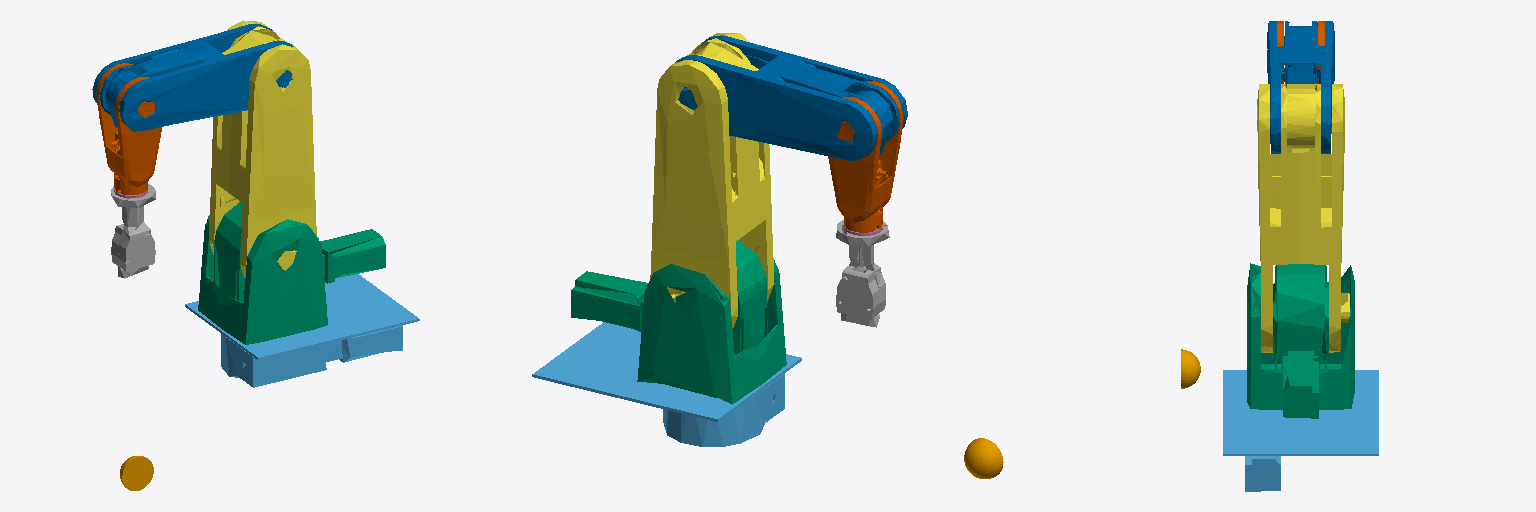
The robot description file, URDF, robot "rldp5":
<?xml version="1.0" ?>
<!-- =================================================================================== -->
<!-- |    This document was autogenerated by xacro from [local-path]/test3_ws/src/rldp5_description/urdf/rldp5.urdf.xacro | -->
<!-- |    EDITING THIS FILE BY HAND IS NOT RECOMMENDED                                 | -->
<!-- =================================================================================== -->
<robot name="rldp5">
    <!-- Links -->
    <link name="world" />
    <link name="base_link">
        <inertial>
            <origin rpy="0 0 0" xyz="0.04223218345086115 -0.01938787744257538 0.057495548139883904" />
            <mass value="2.4067491698035863" />
            <inertia ixx="0.008466" ixy="0.002277" ixz="-0.000705" iyy="0.018795" iyz="-0.000333" izz="0.024001" />
        </inertial>
        <visual>
            <origin rpy="0 0 0" xyz="0 0 0" />
            <geometry>
                <mesh filename="package://rldp5_description/mesh/base_link.stl" scale="0.001 0.001 0.001" />
            </geometry>
        </visual>
        <collision>
            <origin rpy="0 0 0" xyz="0 0 0" />
            <geometry>
                <mesh filename="package://rldp5_description/mesh/base_link.stl" scale="0.001 0.001 0.001" />
            </geometry>
        </collision>
    </link>
    <link name="link_1">
        <inertial>
            <origin rpy="0 0 0" xyz="0.02666189292548051 -4.87712308473133e-07 0.11114216106472456" />
            <mass value="2.489938203553284" />
            <inertia ixx="0.010589" ixy="3e-06" ixz="0.002056" iyy="0.021835" iyz="-0.0" izz="0.017706" />
        </inertial>
        <visual>
            <origin rpy="0 0 0" xyz="0.0 0.0 -0.1022" />
            <geometry>
                <mesh filename="package://rldp5_description/mesh/link_1.stl" scale="0.001 0.001 0.001" />
            </geometry>
        </visual>
        <collision>
            <origin rpy="0 0 0" xyz="0.0 0.0 -0.1022" />
            <geometry>
                <mesh filename="package://rldp5_description/mesh/link_1.stl" scale="0.001 0.001 0.001" />
            </geometry>
        </collision>
    </link>
    <link name="link_2">
        <inertial>
            <origin rpy="0 0 0" xyz="-0.0025797033685453323 0.08740384931769365 0.23089426213956546" />
            <mass value="1.7064644306239998" />
            <inertia ixx="0.027922" ixy="1.4e-05" ixz="0.000507" iyy="0.027117" iyz="-3.8e-05" izz="0.005495" />
        </inertial>
        <visual>
            <origin rpy="0 0 0" xyz="0.0 0.0875 -0.2472" />
            <geometry>
                <mesh filename="package://rldp5_description/mesh/link_2.stl" scale="0.001 0.001 0.001" />
            </geometry>
        </visual>
        <collision>
            <origin rpy="0 0 0" xyz="0.0 0.0875 -0.2472" />
            <geometry>
                <mesh filename="package://rldp5_description/mesh/link_2.stl" scale="0.001 0.001 0.001" />
            </geometry>
        </collision>
    </link>
    <link name="link_3">
        <inertial>
            <origin rpy="0 0 0" xyz="-0.17767994097579132 0.07055070946330594 -0.0021365928026594316" />
            <mass value="0.8476040154017905" />
            <inertia ixx="0.001758" ixy="-4e-06" ixz="-0.000161" iyy="0.008757" iyz="-3e-06" izz="0.008954" />
        </inertial>
        <visual>
            <origin rpy="0 0 0" xyz="0.0 0.0706 -0.5972" />
            <geometry>
                <mesh filename="package://rldp5_description/mesh/link_3.stl" scale="0.001 0.001 0.001" />
            </geometry>
        </visual>
        <collision>
            <origin rpy="0 0 0" xyz="0.0 0.0706 -0.5972" />
            <geometry>
                <mesh filename="package://rldp5_description/mesh/link_3.stl" scale="0.001 0.001 0.001" />
            </geometry>
        </collision>
    </link>
    <link name="link_4">
        <inertial>
            <origin rpy="0 0 0" xyz="-0.00026026868676498616 0.05460448637419659 -0.095038323418843" />
            <mass value="0.2564792674883184" />
            <inertia ixx="0.001174" ixy="-0.0" ixz="-1e-06" iyy="0.0011" iyz="0.0" izz="0.000275" />
        </inertial>
        <visual>
            <origin rpy="0 0 0" xyz="0.27 0.0546 -0.5972" />
            <geometry>
                <mesh filename="package://rldp5_description/mesh/link_4.stl" scale="0.001 0.001 0.001" />
            </geometry>
        </visual>
        <collision>
            <origin rpy="0 0 0" xyz="0.27 0.0546 -0.5972" />
            <geometry>
                <mesh filename="package://rldp5_description/mesh/link_4.stl" scale="0.001 0.001 0.001" />
            </geometry>
        </collision>
    </link>
    <link name="eef">
        <inertial>
            <origin rpy="0 0 0" xyz="-1.311241328183499e-06 2.1073781334110024e-05 -0.0010894994201211539" />
            <mass value="0.0722497566624133" />
            <inertia ixx="1.7e-05" ixy="-0.0" ixz="-0.0" iyy="1.7e-05" iyz="-0.0" izz="3.3e-05" />
        </inertial>
        <visual>
            <origin rpy="0 0 0" xyz="0.27 -0.0 -0.4132" />
            <geometry>
                <mesh filename="package://rldp5_description/mesh/eef.stl" scale="0.001 0.001 0.001" />
            </geometry>
        </visual>
        <collision>
            <origin rpy="0 0 0" xyz="0.27 -0.0 -0.4132" />
            <geometry>
                <mesh filename="package://rldp5_description/mesh/eef.stl" scale="0.001 0.001 0.001" />
            </geometry>
        </collision>
    </link>
    <link name="tl_link">
        <visual>
            <origin rpy="0 3.13 0" xyz="0 0 0" />
            <geometry>
                <mesh filename="package://rldp5_description/mesh/tool1.stl" />
            </geometry>
        </visual>
        <collision>
            <origin rpy="0 3.13 0" xyz="0 0 0" />
            <geometry>
                <mesh filename="package://rldp5_description/mesh/tool1.stl" />
            </geometry>
        </collision>
        <inertial>
            <mass value="0.1" />
            <origin xyz="0 0 0" rpy="0 0 0" />
            <inertia ixx="0.03" iyy="0.03" izz="0.03" ixy="0.0" ixz="0.0" iyz="0.0" />
        </inertial>
    </link>
    <link name="t2_link">
        <visual>
            <origin rpy="-1.57 0 0" xyz="-0.3 -0.2 0" />
            <geometry>
                <mesh filename="package://rldp5_description/mesh/tool2.stl" />
            </geometry>
        </visual>
        <collision>
            <origin rpy="0 0 0" xyz="0 0 0" />
            <geometry>
                <mesh filename="package://rldp5_description/mesh/tool2.stl" />
            </geometry>
        </collision>
        <inertial>
            <mass value="0.1" />
            <origin xyz="0 0 0" rpy="0 0 0" />
            <inertia ixx="0.03" iyy="0.03" izz="0.03" ixy="0.0" ixz="0.0" iyz="0.0" />
        </inertial>
    </link>
    <link name="tool_link" />
    <!-- Joints -->
    <joint name="virtual_joint" type="fixed">
        <parent link="world" />
        <child link="base_link" />
        <origin rpy="0 0 0" xyz="0 0 0" />
    </joint>
    <joint name="joint_1" type="revolute">
        <parent link="base_link" />
        <child link="link_1" />
        <origin xyz="0.0 0.0 0.1022" />
        <axis xyz="-0.0 0.0 -1.0" />
        <limit effort="10" lower="0.0" upper="3.141593" velocity="10" />
    </joint>
    <joint name="joint_2" type="revolute">
        <parent link="link_1" />
        <child link="link_2" />
        <origin xyz="0.0 -0.0875 0.145" />
        <axis xyz="0.0 1.0 0.0" />
        <limit effort="10" lower="-0.872665" upper="0.872665" velocity="10" />
    </joint>
    <joint name="joint_3" type="revolute">
        <parent link="link_2" />
        <child link="link_3" />
        <origin xyz="0.0 0.0169 0.35" />
        <axis xyz="0.0 1.0 0.0" />
        <limit effort="10" lower="-0.523599" upper="3.752458" velocity="10" />
    </joint>
    <joint name="joint_4" type="revolute">
        <parent link="link_3" />
        <child link="link_4" />
        <origin xyz="-0.27 0.016 0.0" />
        <axis xyz="0.0 1.0 0.0" />
        <limit effort="10" lower="-0.785398" upper="3.752458" velocity="10" />
    </joint>
    <joint name="joint_5" type="revolute">
        <parent link="link_4" />
        <child link="eef" />
        <origin xyz="0.0 0.0546 -0.184" />
        <axis xyz="0.0 0.0 -1.0" />
        <limit effort="10" lower="0.0" upper="6.283185" velocity="10" />
    </joint>
    <joint name="eef_to_tool" type="fixed">
        <parent link="eef" />
        <child link="tool_link" />
        <origin xyz="0 0 0" />
    </joint>
    <joint name="tool_joint" type="fixed">
        <parent link="eef" />
        <child link="tl_link" />
        <origin xyz="0 0 0" />
    </joint>
    <joint name="tool1_joint" type="fixed">
        <parent link="world" />
        <child link="t2_link" />
        <origin xyz="0 0 0" />
    </joint>
    <transmission name="transmission_1">
        <type>transmission_interface/SimpleTransmission</type>
        <joint name="joint_1">
            <hardwareInterface>hardware_interface/PositionJointInterface</hardwareInterface>
        </joint>
        <actuator name="motor_1">
            <hardwareInterface>hardware_interface/PositionJointInterface</hardwareInterface>
            <mechanicalReduction>1</mechanicalReduction>
        </actuator>
    </transmission>
    <transmission name="transmission_2">
        <type>transmission_interface/SimpleTransmission</type>
        <joint name="joint_2">
            <hardwareInterface>hardware_interface/PositionJointInterface</hardwareInterface>
        </joint>
        <actuator name="motor_2">
            <hardwareInterface>hardware_interface/PositionJointInterface</hardwareInterface>
            <mechanicalReduction>1</mechanicalReduction>
        </actuator>
    </transmission>
    <transmission name="transmission_3">
        <type>transmission_interface/SimpleTransmission</type>
        <joint name="joint_3">
            <hardwareInterface>hardware_interface/PositionJointInterface</hardwareInterface>
        </joint>
        <actuator name="motor_3">
            <hardwareInterface>hardware_interface/PositionJointInterface</hardwareInterface>
            <mechanicalReduction>1</mechanicalReduction>
        </actuator>
    </transmission>
    <transmission name="transmission_4">
        <type>transmission_interface/SimpleTransmission</type>
        <joint name="joint_4">
            <hardwareInterface>hardware_interface/PositionJointInterface</hardwareInterface>
        </joint>
        <actuator name="motor_4">
            <hardwareInterface>hardware_interface/PositionJointInterface</hardwareInterface>
            <mechanicalReduction>1</mechanicalReduction>
        </actuator>
    </transmission>
    <transmission name="transmission_5">
        <type>transmission_interface/SimpleTransmission</type>
        <joint name="joint_5">
            <hardwareInterface>hardware_interface/PositionJointInterface</hardwareInterface>
        </joint>
        <actuator name="motor_5">
            <hardwareInterface>hardware_interface/PositionJointInterface</hardwareInterface>
            <mechanicalReduction>1</mechanicalReduction>
        </actuator>
    </transmission>
    <material name="camera1_aluminum">
        <color rgba="0.5 0.5 0.5 1" />
    </material>
    <!-- camera body, with origin at bottom screw mount -->
    <joint name="camera1_joint" type="fixed">
        <origin rpy="0 1.57 1.57" xyz="-0.01 -0.06 -0.09" />
        <parent link="tl_link" />
        <child link="camera1_bottom_screw_frame" />
    </joint>
    <link name="camera1_bottom_screw_frame" />
    <joint name="camera1_link_joint" type="fixed">
        <origin rpy="0 0 0" xyz="0 0.0175 0.0125" />
        <parent link="camera1_bottom_screw_frame" />
        <child link="camera1_link" />
    </joint>
    <link name="camera1_link">
        <visual>
            <origin rpy="1.5707963267948966 0 1.5707963267948966" xyz="0.0149 -0.0175 0" />
            <geometry>
                <!-- <box size="${d435_cam_width} ${d435_cam_height} ${d435_cam_depth}"/> -->
                <mesh filename="package://realsense2_description/meshes/d435.dae" />
                <!--<mesh filename="package://realsense2_description/meshes/d435/d435.dae" />-->
            </geometry>
            <material name="camera1_aluminum" />
        </visual>
        <collision>
            <origin rpy="0 0 0" xyz="0 -0.0175 0" />
            <geometry>
                <box size="0.02505 0.09 0.025" />
            </geometry>
        </collision>
        <inertial>
            <!-- The following are not reliable values, and should not be used for modeling -->
            <mass value="0.564" />
            <origin xyz="0 0 0" rpy="0 0 0" />
            <inertia ixx="0.003881243" ixy="0.0" ixz="0.0" iyy="0.000498940" iyz="0.0" izz="0.003879257" />
        </inertial>
    </link>
    <!-- camera depth joints and links -->
    <joint name="camera1_depth_joint" type="fixed">
        <origin rpy="0 0 0" xyz="0 0 0" />
        <parent link="camera1_link" />
        <child link="camera1_depth_frame" />
    </joint>
    <link name="camera1_depth_frame" />
    <joint name="camera1_depth_optical_joint" type="fixed">
        <origin rpy="-1.5707963267948966 0 -1.5707963267948966" xyz="0 0 0" />
        <parent link="camera1_depth_frame" />
        <child link="camera1_depth_optical_frame" />
    </joint>
    <link name="camera1_depth_optical_frame" />
    <!-- camera left IR joints and links -->
    <joint name="camera1_left_ir_joint" type="fixed">
        <origin rpy="0 0 0" xyz="0 0.0 0" />
        <parent link="camera1_depth_frame" />
        <child link="camera1_left_ir_frame" />
    </joint>
    <link name="camera1_left_ir_frame" />
    <joint name="camera1_left_ir_optical_joint" type="fixed">
        <origin rpy="-1.5707963267948966 0 -1.5707963267948966" xyz="0 0 0" />
        <parent link="camera1_left_ir_frame" />
        <child link="camera1_left_ir_optical_frame" />
    </joint>
    <link name="camera1_left_ir_optical_frame" />
    <!-- camera right IR joints and links -->
    <joint name="camera1_right_ir_joint" type="fixed">
        <origin rpy="0 0 0" xyz="0 -0.05 0" />
        <parent link="camera1_depth_frame" />
        <child link="camera1_right_ir_frame" />
    </joint>
    <link name="camera1_right_ir_frame" />
    <joint name="camera1_right_ir_optical_joint" type="fixed">
        <origin rpy="-1.5707963267948966 0 -1.5707963267948966" xyz="0 0 0" />
        <parent link="camera1_right_ir_frame" />
        <child link="camera1_right_ir_optical_frame" />
    </joint>
    <link name="camera1_right_ir_optical_frame" />
    <!-- camera color joints and links -->
    <joint name="camera1_color_joint" type="fixed">
        <origin rpy="0 0 0" xyz="0 0.015 0" />
        <parent link="camera1_depth_frame" />
        <child link="camera1_color_frame" />
    </joint>
    <link name="camera1_color_frame" />
    <joint name="camera1_color_optical_joint" type="fixed">
        <origin rpy="-1.5707963267948966 0 -1.5707963267948966" xyz="0 0 0" />
        <parent link="camera1_color_frame" />
        <child link="camera1_color_optical_frame" />
    </joint>
    <link name="camera1_color_optical_frame" />
    <gazebo reference="camera1_link">
        <self_collide>0</self_collide>
        <enable_wind>0</enable_wind>
        <kinematic>0</kinematic>
        <gravity>1</gravity>
        <!--<mu>1</mu>-->
        <mu2>1</mu2>
        <fdir1>0 0 0</fdir1>
        <!--<slip1>0</slip1>
      <slip2>0</slip2>-->
        <kp>1e+13</kp>
        <kd>1</kd>
        <!--<max_vel>0.01</max_vel>
      <min_depth>0</min_depth>-->
        <sensor name="camera1color" type="camera">
            <camera name="camera1">
                <horizontal_fov>1.2112585008840648</horizontal_fov>
                <image>
                    <width>640</width>
                    <height>480</height>
                    <format>RGB_INT8</format>
                </image>
                <clip>
                    <near>0.1</near>
                    <far>100</far>
                </clip>
                <noise>
                    <type>gaussian</type>
                    <mean>0.0</mean>
                    <stddev>0.007</stddev>
                </noise>
            </camera>
            <always_on>1</always_on>
            <update_rate>30</update_rate>
            <visualize>1</visualize>
        </sensor>
        <sensor name="camera1ired1" type="camera">
            <camera name="camera1">
                <horizontal_fov>1.4870205226991688</horizontal_fov>
                <image>
                    <width>1280</width>
                    <height>720</height>
                    <format>L_INT8</format>
                </image>
                <clip>
                    <near>0.1</near>
                    <far>100</far>
                </clip>
                <noise>
                    <type>gaussian</type>
                    <mean>0.0</mean>
                    <stddev>0.05</stddev>
                </noise>
            </camera>
            <always_on>1</always_on>
            <update_rate>90</update_rate>
            <visualize>0</visualize>
        </sensor>
        <sensor name="camera1ired2" type="camera">
            <camera name="camera1">
                <horizontal_fov>1.4870205226991688</horizontal_fov>
                <image>
                    <width>1280</width>
                    <height>720</height>
                    <format>L_INT8</format>
                </image>
                <clip>
                    <near>0.1</near>
                    <far>100</far>
                </clip>
                <noise>
                    <type>gaussian</type>
                    <mean>0.0</mean>
                    <stddev>0.05</stddev>
                </noise>
            </camera>
            <always_on>1</always_on>
            <update_rate>90</update_rate>
            <visualize>0</visualize>
        </sensor>
        <sensor name="camera1depth" type="depth">
            <camera name="camera1">
                <horizontal_fov>1.4870205226991688</horizontal_fov>
                <image>
                    <width>1280</width>
                    <height>720</height>
                </image>
                <clip>
                    <near>0.1</near>
                    <far>100</far>
                </clip>
                <noise>
                    <type>gaussian</type>
                    <mean>0.0</mean>
                    <stddev>0.100</stddev>
                </noise>
            </camera>
            <always_on>1</always_on>
            <update_rate>90</update_rate>
            <visualize>0</visualize>
        </sensor>
        <plugin name="gazebo_ros_control">
            <robotNamespace>/</robotNamespace>
        </plugin>
    </gazebo>
    <gazebo>
        <plugin filename="librealsense_gazebo_plugin.so" name="camera1">
            <prefix>camera1</prefix>
            <depthUpdateRate>30.0</depthUpdateRate>
            <colorUpdateRate>30.0</colorUpdateRate>
            <infraredUpdateRate>30.0</infraredUpdateRate>
            <depthTopicName>depth/image_raw</depthTopicName>
            <depthCameraInfoTopicName>depth/camera_info</depthCameraInfoTopicName>
            <colorTopicName>color/image_raw</colorTopicName>
            <colorCameraInfoTopicName>color/camera_info</colorCameraInfoTopicName>
            <infrared1TopicName>infra1/image_raw</infrared1TopicName>
            <infrared1CameraInfoTopicName>infra1/camera_info</infrared1CameraInfoTopicName>
            <infrared2TopicName>infra2/image_raw</infrared2TopicName>
            <infrared2CameraInfoTopicName>infra2/camera_info</infrared2CameraInfoTopicName>
            <colorOpticalframeName>camera1_color_optical_frame</colorOpticalframeName>
            <depthOpticalframeName>camera1_depth_optical_frame</depthOpticalframeName>
            <infrared1OpticalframeName>camera1_left_ir_optical_frame</infrared1OpticalframeName>
            <infrared2OpticalframeName>camera1_right_ir_optical_frame</infrared2OpticalframeName>
            <rangeMinDepth>0.2</rangeMinDepth>
            <rangeMaxDepth>10.0</rangeMaxDepth>
            <pointCloud>True</pointCloud>
            <pointCloudTopicName>depth/color/points</pointCloudTopicName>
            <pointCloudCutoff>0.25</pointCloudCutoff>
            <pointCloudCutoffMax>9.0</pointCloudCutoffMax>
        </plugin>
    </gazebo>
    <!-- gazebo ros_control plugin -->
    <gazebo>
        <plugin filename="libgazebo_ros_control.so" name="gazebo_ros_control">
            <robotNamespace />
            <robotSimType>gazebo_ros_control/DefaultRobotHWSim</robotSimType>
            <legacyModeNS>true</legacyModeNS>
        </plugin>
    </gazebo>
</robot>

--- Render facts (derived) ---
3 views of the same robot in one strip: view 1: azimuth 30°, elevation 25°; view 2: azimuth 150°, elevation 25°; view 3: azimuth 270°, elevation 25° (orthographic).
Model rldp5 with 20 links and 19 joints (5 revolute, 14 fixed), rooted at world, posed every joint at zero.
Links seen in each view (by area): view 1: link_2, link_1, link_3, base_link, link_4, tl_link, t2_link; view 2: link_2, link_1, link_3, base_link, link_4, tl_link, t2_link; view 3: link_2, link_1, base_link, link_3, t2_link.
Link boxes in pixels (box(x1,y1,x2,y2)): link_2: box(209, 20, 316, 277); link_1: box(198, 202, 385, 344); link_3: box(92, 24, 293, 131); base_link: box(185, 274, 419, 387); link_4: box(96, 63, 161, 194); tl_link: box(111, 184, 155, 278); t2_link: box(120, 456, 153, 490); link_2: box(650, 33, 774, 328); link_1: box(571, 240, 786, 404); link_3: box(675, 36, 907, 160); base_link: box(532, 322, 801, 446); link_4: box(828, 81, 903, 232); tl_link: box(836, 220, 889, 327); t2_link: box(964, 438, 1003, 478); link_2: box(1257, 83, 1349, 352); link_1: box(1247, 263, 1354, 418); base_link: box(1223, 370, 1378, 491); link_3: box(1267, 21, 1334, 153); t2_link: box(1181, 349, 1200, 388).
Size in the robot's own frame: 0.6488 by 0.33 by 0.7259 metres.
8 mesh visuals loaded from 9 distinct referenced files (8 binary STL); not drawn: 1 (reference not matched to a file when rendering).
